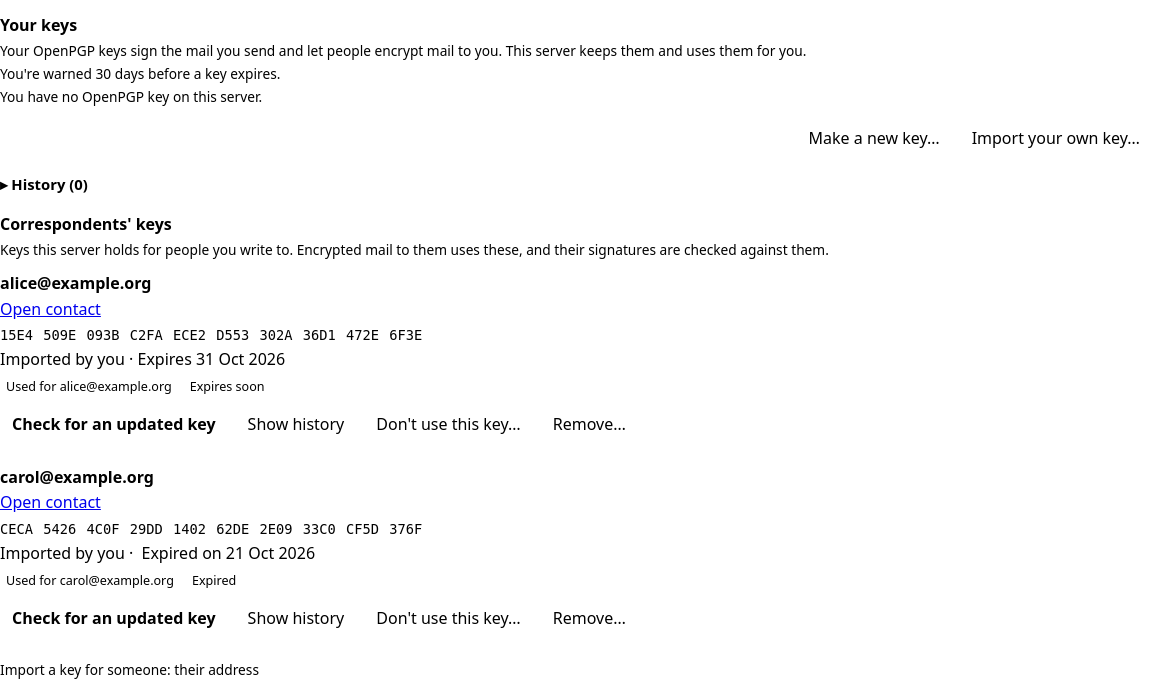
Test: correspondents' keys › lists each key with its source, expiry, pin, and removes one after a confirm
Expected: the list item with class "correspondent-key" shows "Imported by you", [0,348,125,370]
Expected: the list item with class "correspondent-key" shows "Expires 31 Oct 2026", [138,348,285,370]
Click the button "Remove…" below "Expired on 21 Oct 2026": (589, 618) [541,599,638,638]
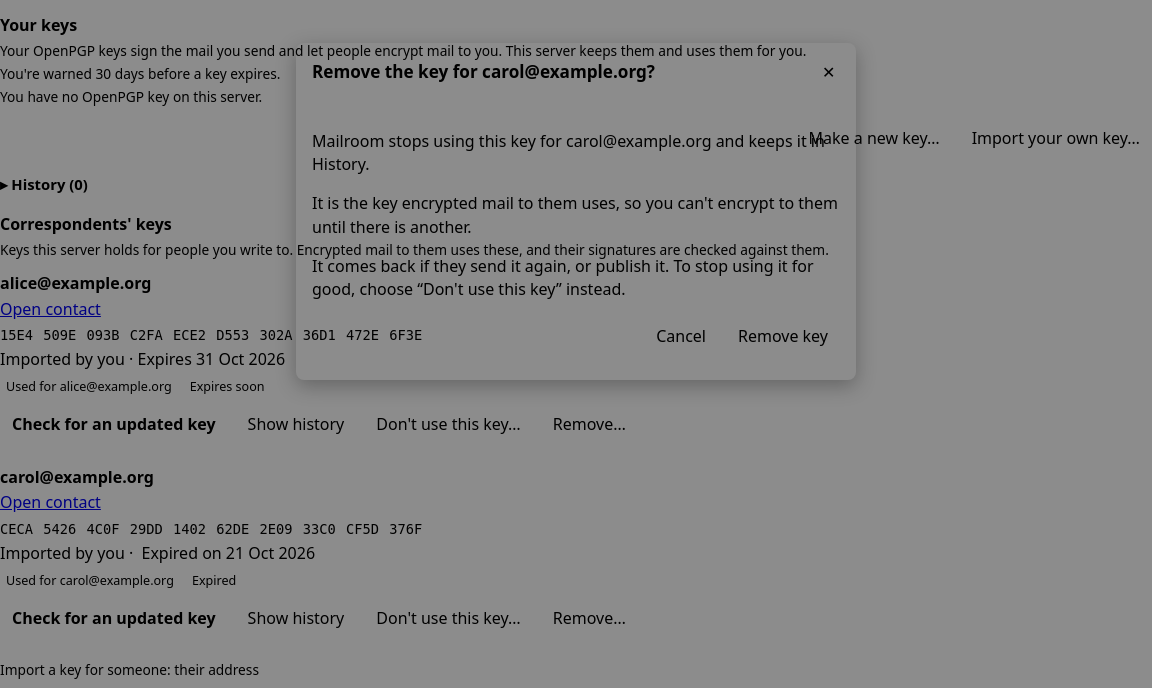
Result: the dialog shows "can't encrypt to them until there is another" at [312,192,838,238]
Click the button "Remove key": (783, 337) [726,317,840,356]
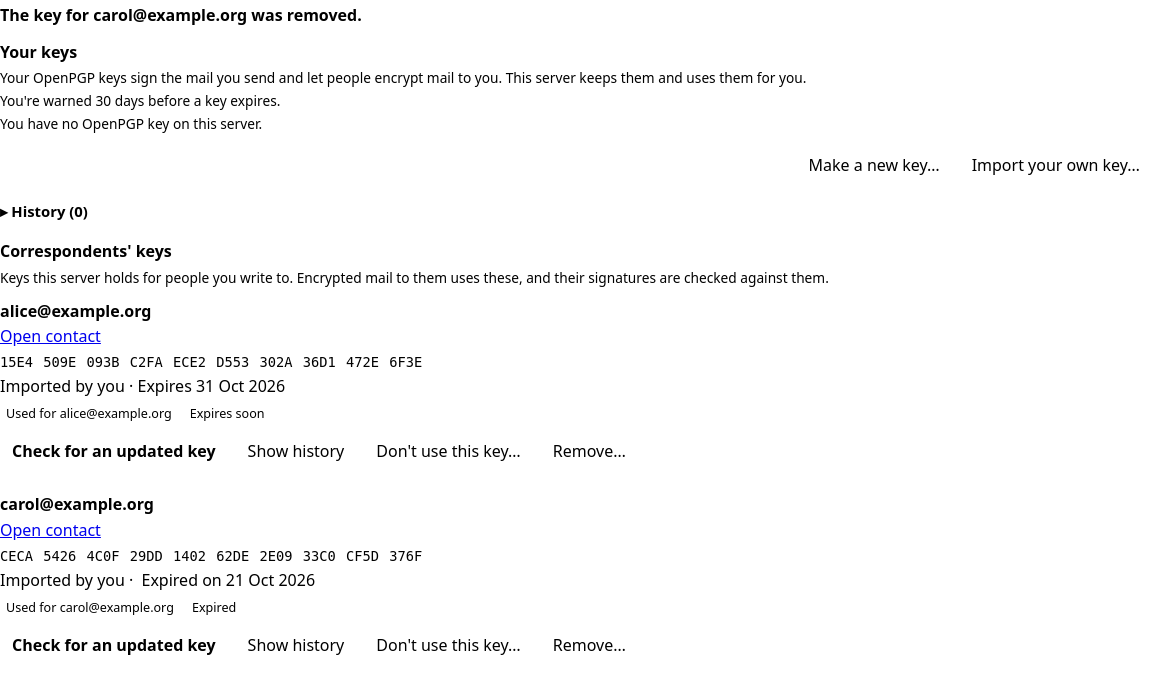
Result: the message with class "setting-done" reads "The key for carol@example.org was removed." at [0,4,362,26]
